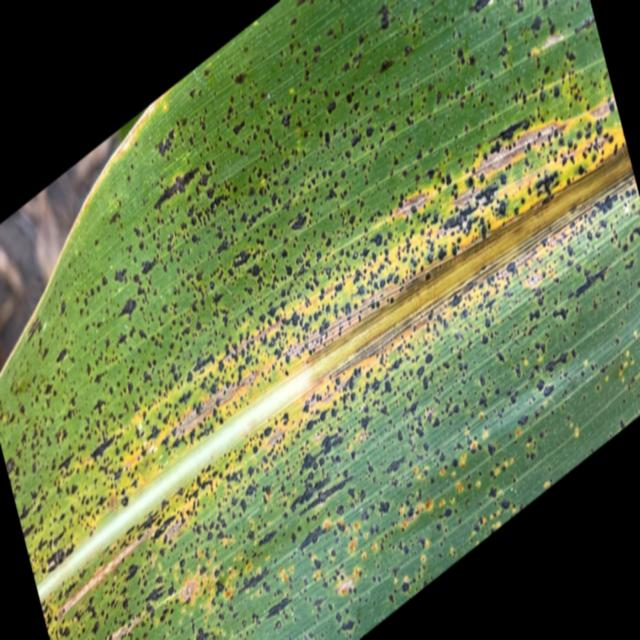Tar_Spot: (104, 143, 560, 485)
